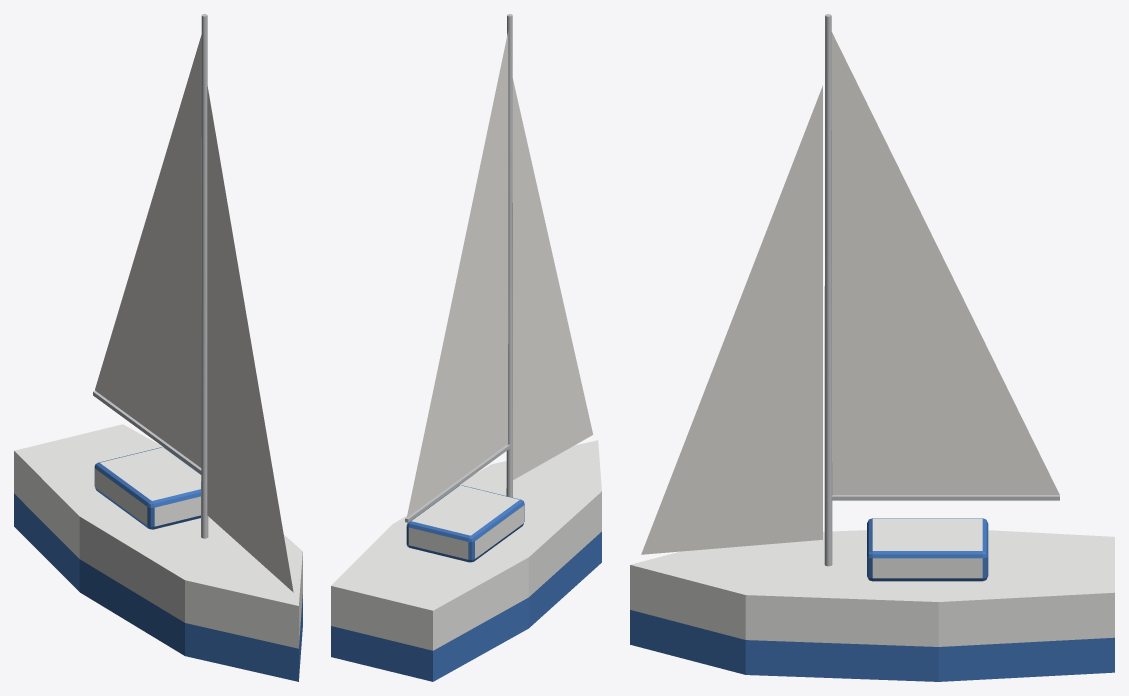
The model's file is sailboat.gltf.
The picture shows the model from 3 angles, left to right: view 1: azimuth 30°, elevation 25°; view 2: azimuth 150°, elevation 25°; view 3: azimuth 270°, elevation 25°; orthographic projection. The views are drawn at different scales.
Parts seen in each view (by area): view 1: sailboat; view 2: sailboat; view 3: sailboat.
Part boxes in pixels (<box>): sailboat: <box>14,14,302,681</box>; sailboat: <box>331,14,601,681</box>; sailboat: <box>630,14,1114,681</box>.
Bounding box in the file's own units: 0.64 × 2.52 × 1.76.
